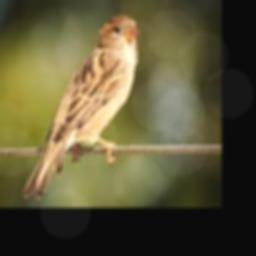Sparrow: (22, 14, 138, 200)
